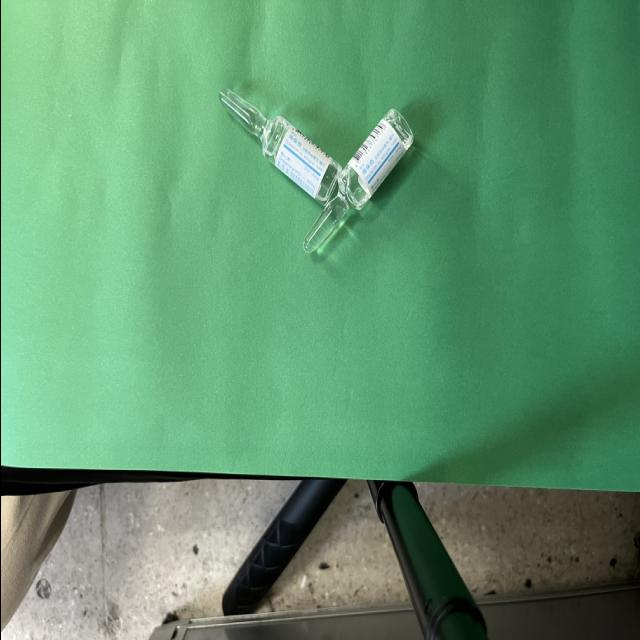Ampoules: (302, 111, 411, 254), (218, 91, 339, 205)
